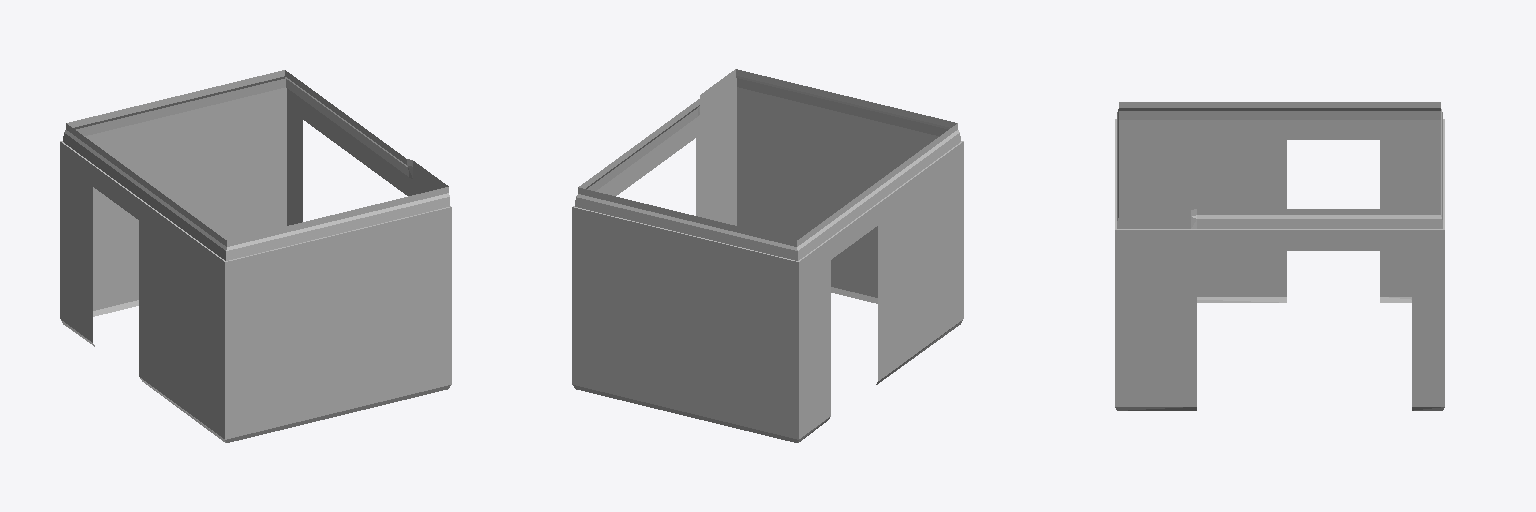
The model's file is wallkitchen.obj.
3 views of the same model, side by side, from view 1: azimuth 30°, elevation 25°; view 2: azimuth 150°, elevation 25°; view 3: azimuth 270°, elevation 25° (orthographic).
Parts seen in each view (by area): view 1: wallkitchen_Plane.005; view 2: wallkitchen_Plane.005; view 3: wallkitchen_Plane.005.
Boxes of the visible parts, <box> form: wallkitchen_Plane.005: <box>60,70,451,442</box>; wallkitchen_Plane.005: <box>572,69,963,442</box>; wallkitchen_Plane.005: <box>1115,102,1444,410</box>.
Size of the model in its own units: 4.55 by 3.87 by 5.74.